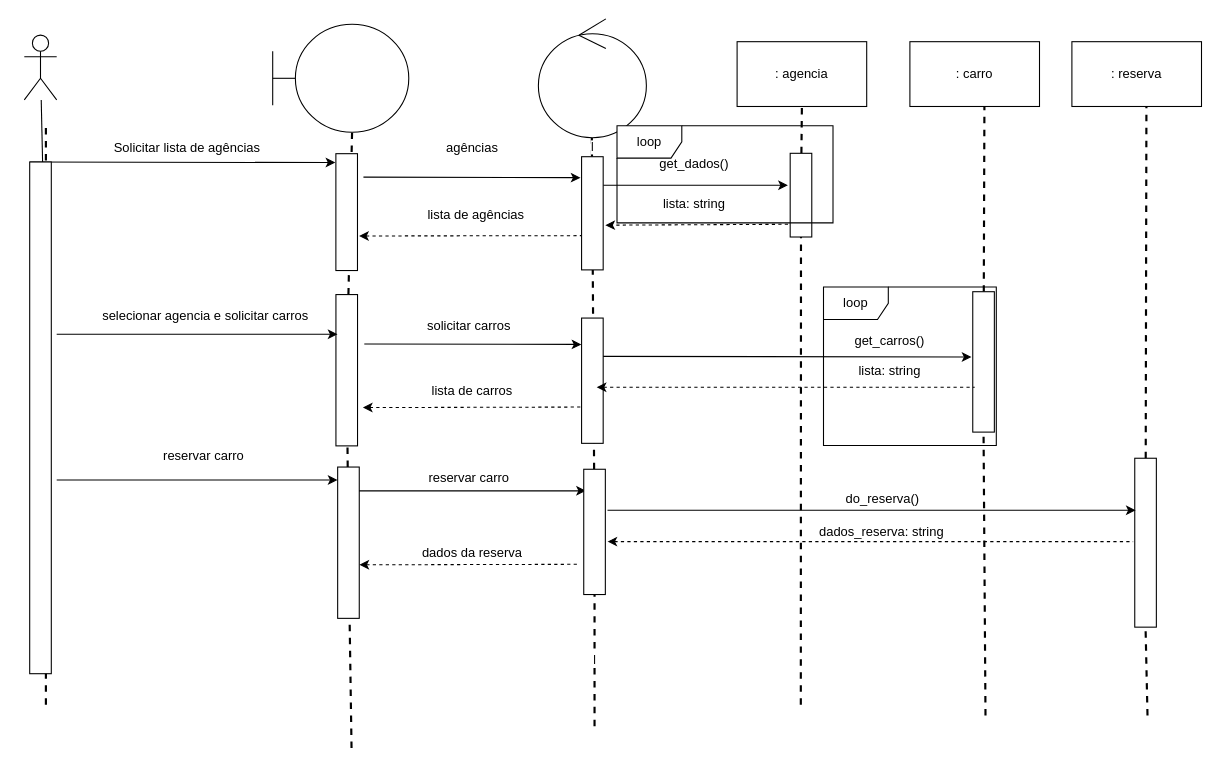
Some shapes in this 1220 by 769 pixel diagram are drawn without their labels. The box of each missing label's shape, as (x1, y1, x2, y2) in pixels:
: Interface: (272, 23, 409, 132)
:Controlador: (537, 18, 646, 138)
Usuário: (23, 34, 57, 100)
